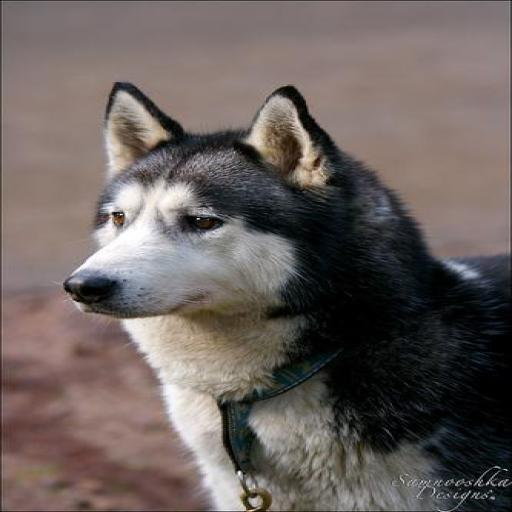dog_face: (75, 76, 352, 322)
